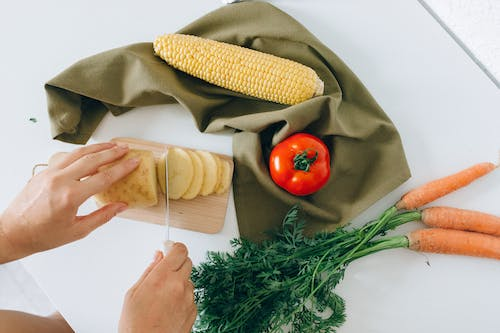knife: (163, 144, 175, 256)
